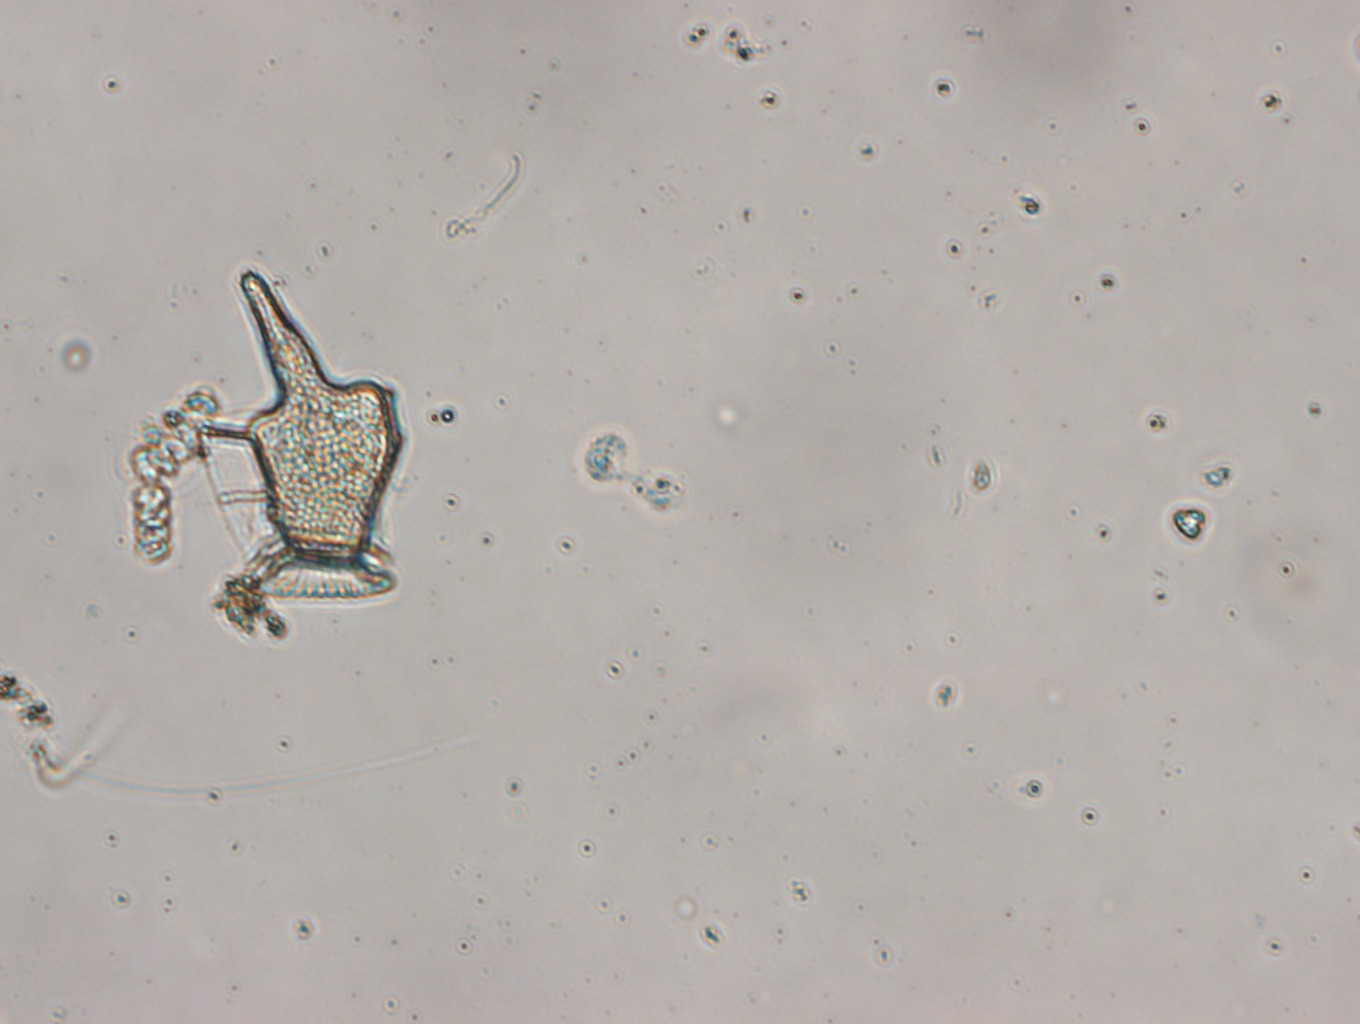dinophysis caudata: (201, 266, 405, 607)
